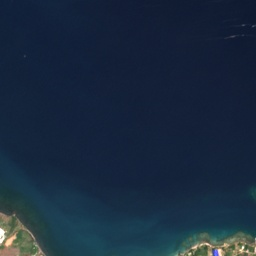Marine Debris: (224, 33, 245, 40), (251, 24, 256, 29), (240, 23, 246, 27)
